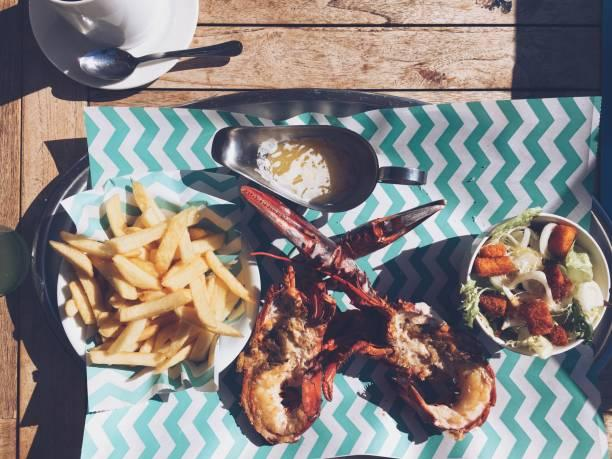Braised Crucian Carp: (34, 159, 259, 383), (462, 213, 608, 356)
